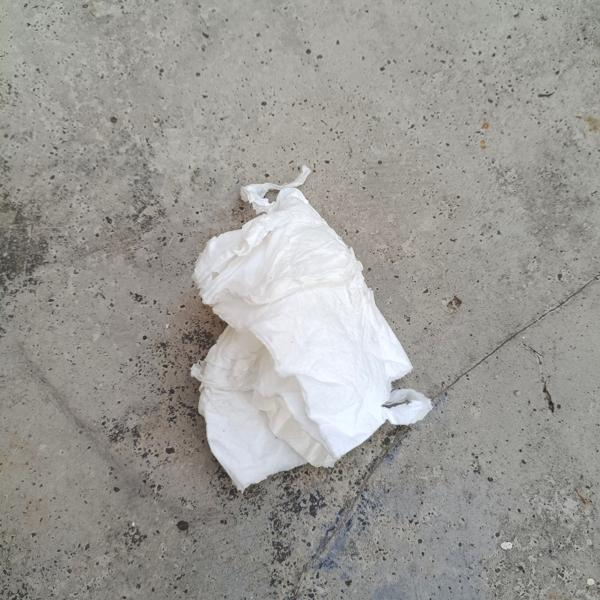Organik: (170, 157, 437, 497)
